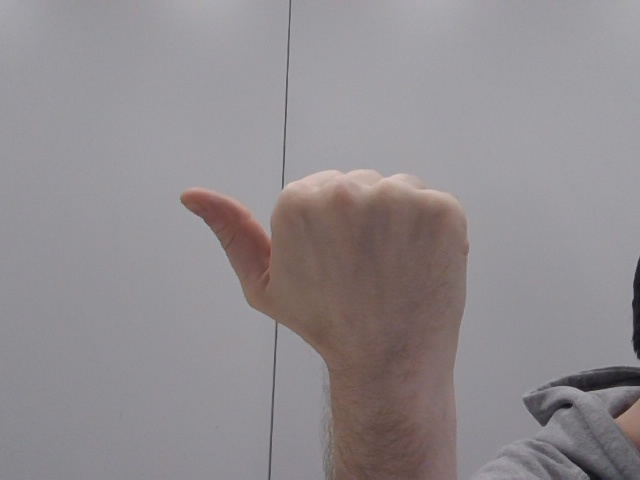right: (154, 150, 495, 363)
